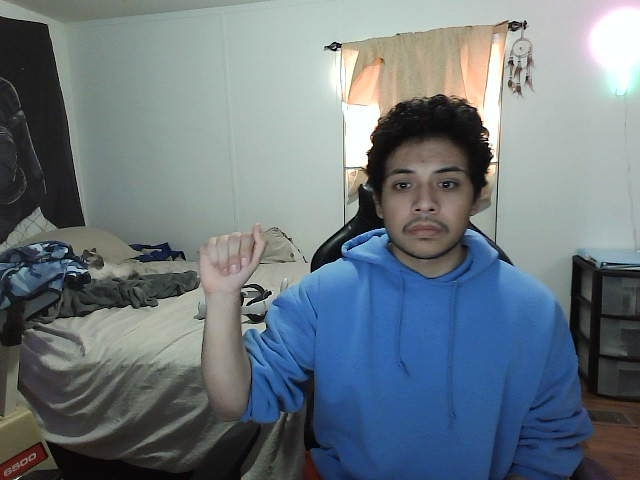A: (193, 222, 271, 292)
